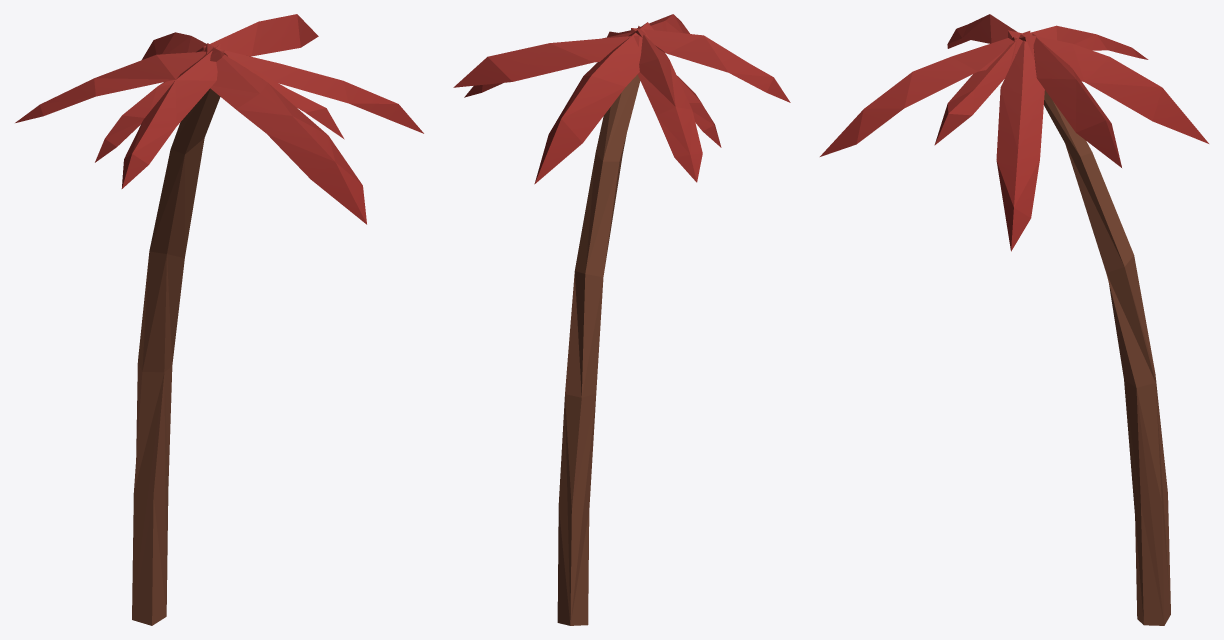
File: Tree_09_gradient_red_vc.fbx
3 renders of one model, left to right at view 1: azimuth 30°, elevation 25°; view 2: azimuth 150°, elevation 25°; view 3: azimuth 270°, elevation 25°, orthographic. The views are drawn at different scales.
Visible parts, largest first — view 1: Tree_09_gradient_red_vc; view 2: Tree_09_gradient_red_vc; view 3: Tree_09_gradient_red_vc.
Part boxes in pixels (left/top/right/bottom): Tree_09_gradient_red_vc: left=15, top=14, right=423, bottom=625; Tree_09_gradient_red_vc: left=453, top=14, right=790, bottom=625; Tree_09_gradient_red_vc: left=820, top=14, right=1208, bottom=625.
Bounding box in the file's own units: 128 × 228 × 137.
